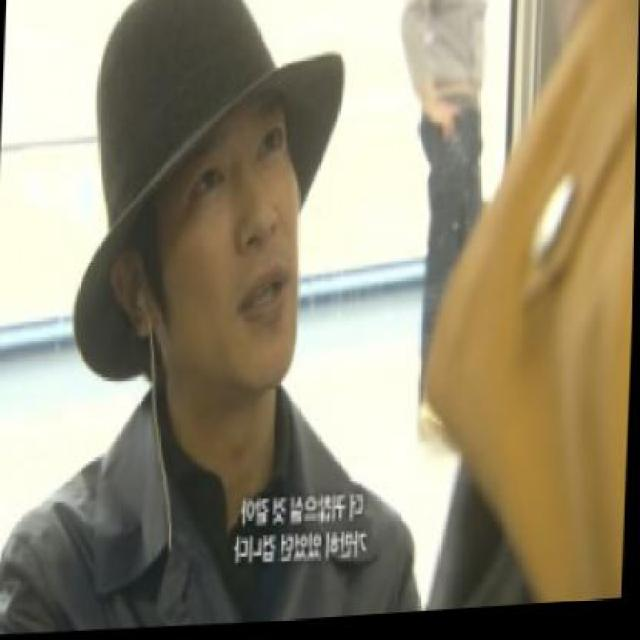hat: (75, 0, 343, 383)
